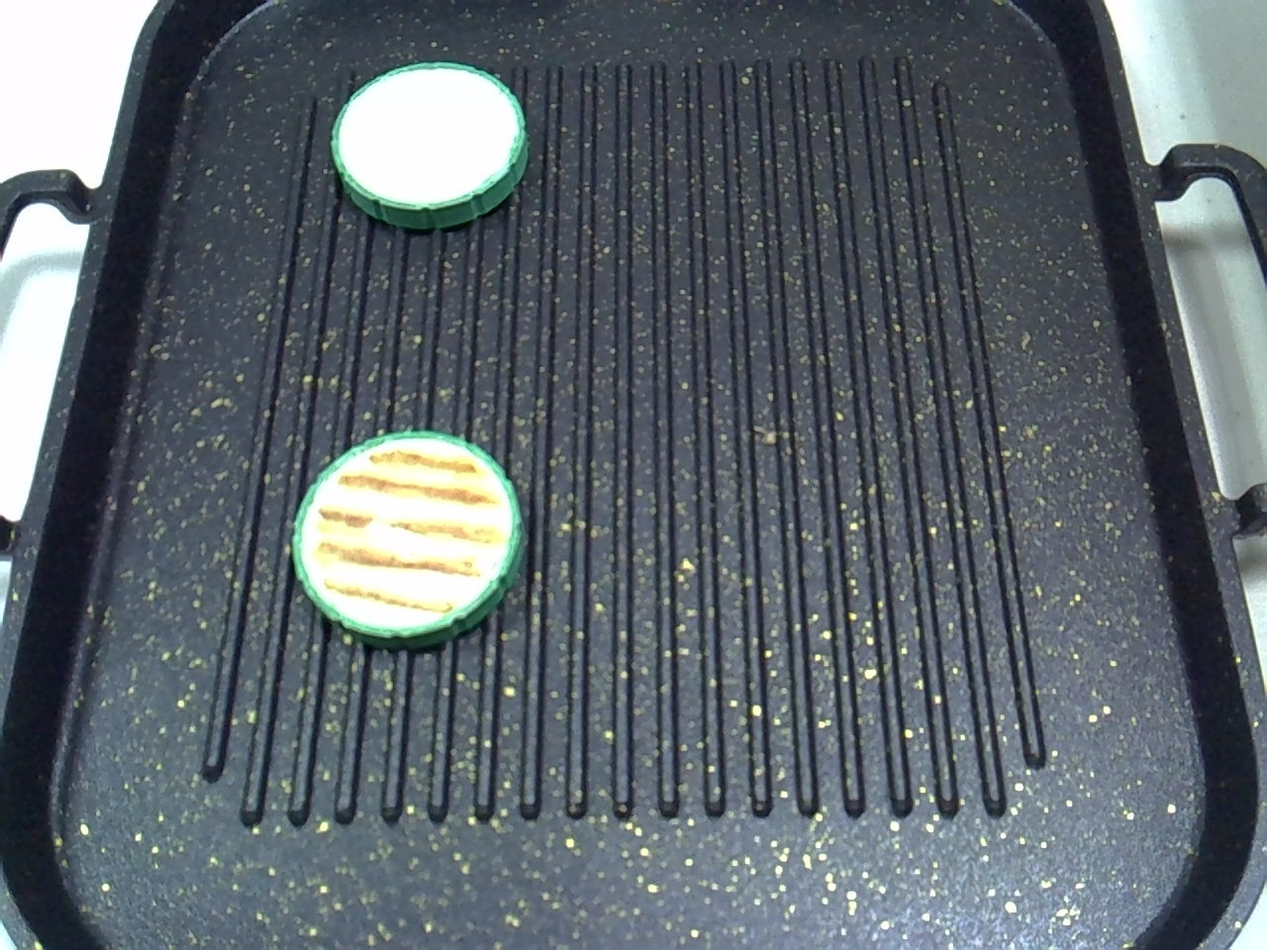Z1 0: (312, 28, 547, 247)
Z1 1: (276, 400, 536, 674)
